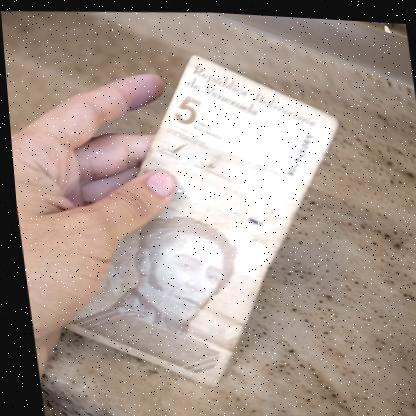five-front-vef: (23, 36, 369, 400)
